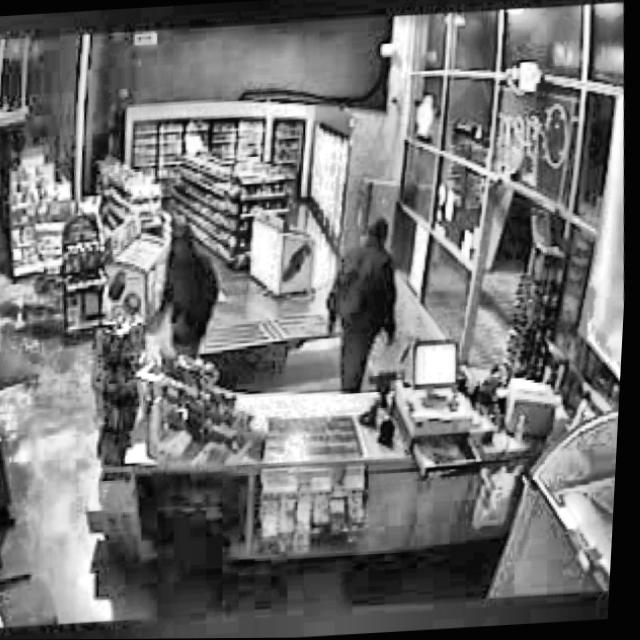burglary: (312, 202, 427, 402), (128, 207, 243, 386)
